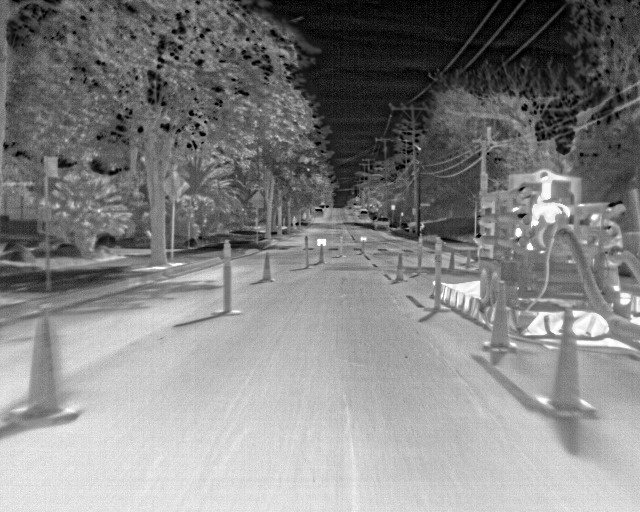car: (376, 216, 391, 234), (356, 207, 370, 223)
